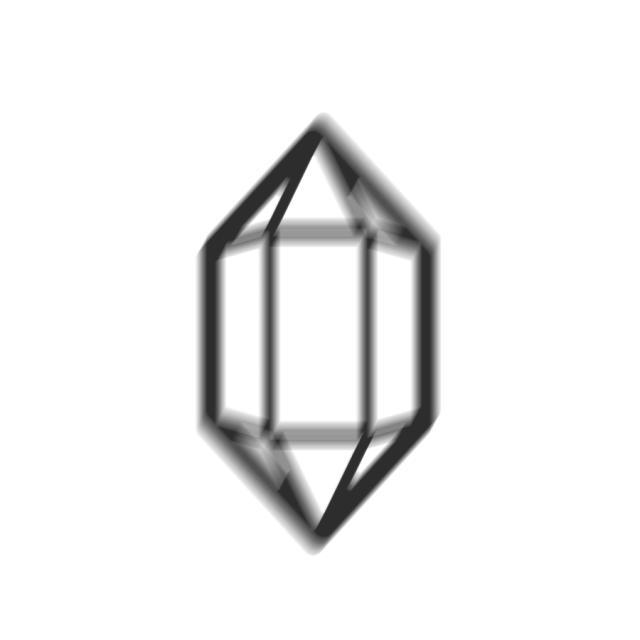crystal: (187, 109, 452, 562)
